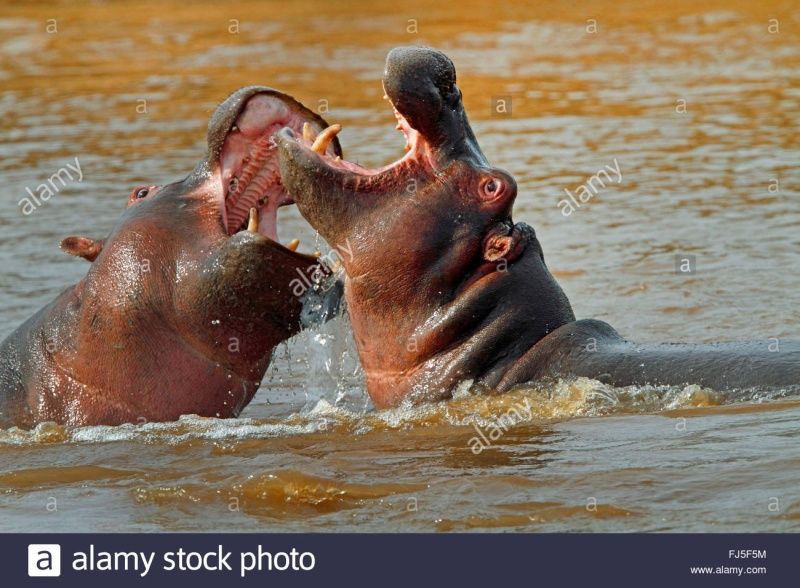hipopotamo: (276, 42, 800, 404), (6, 83, 353, 427)
